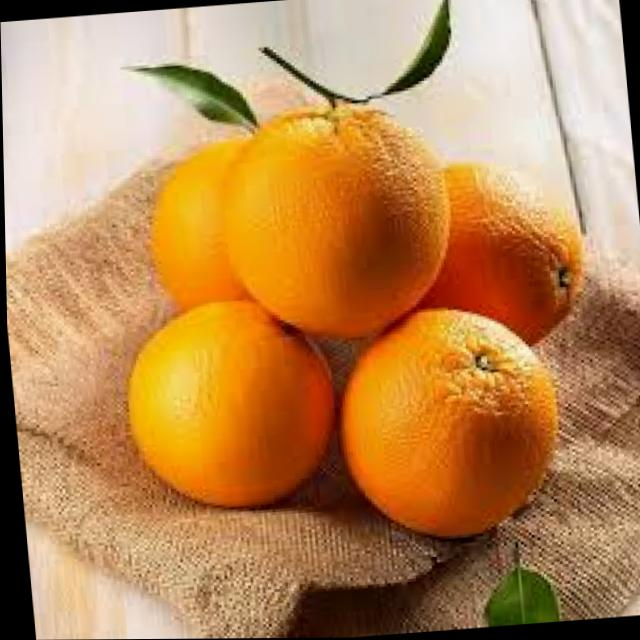orange: (217, 99, 455, 344), (328, 300, 566, 544), (110, 290, 354, 523), (409, 152, 589, 353), (139, 134, 270, 315)
